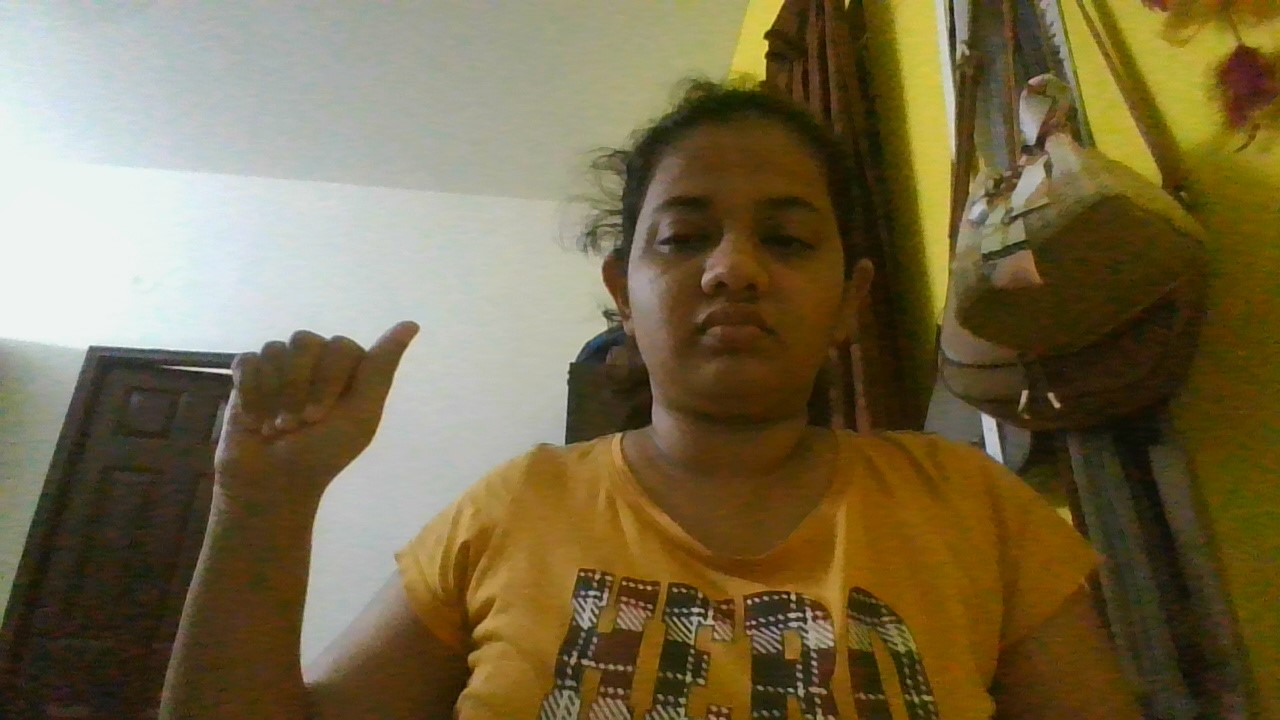a: (196, 306, 441, 508)
